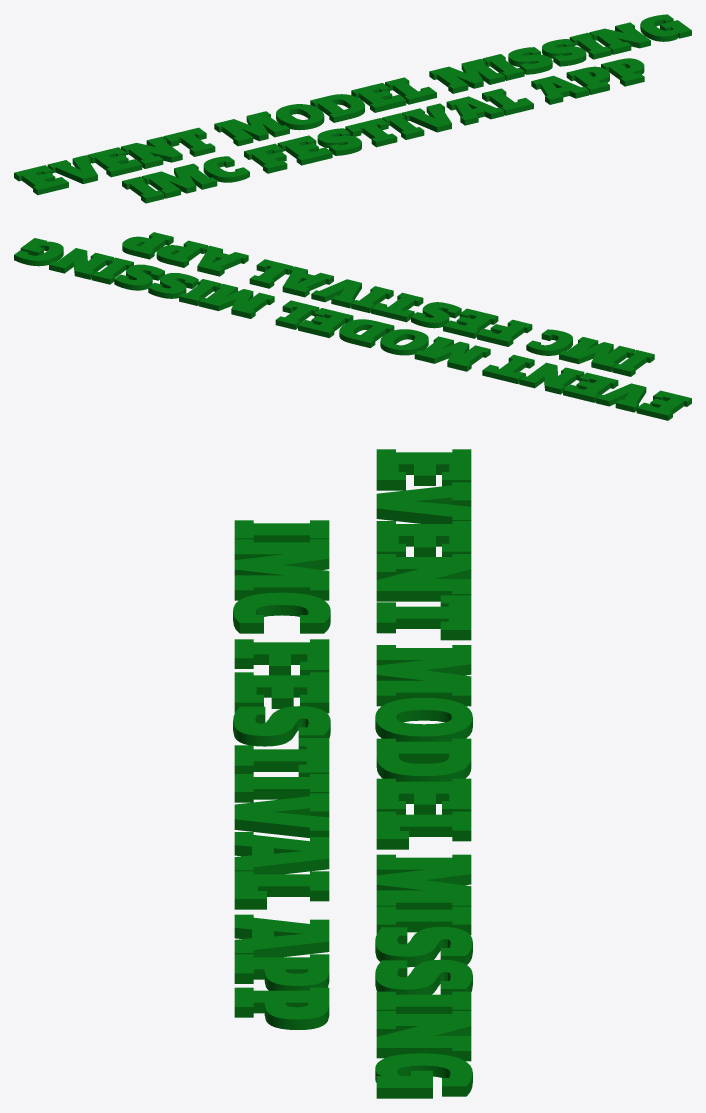
File: eventSiteModelDefault.dae
The picture shows the model from 3 angles, top to bottom: view 1: azimuth 30°, elevation 25°; view 2: azimuth 150°, elevation 25°; view 3: azimuth 270°, elevation 25°; orthographic projection. The views are drawn at different scales.
Parts seen in each view (by area): view 1: instance_0 (×31); view 2: instance_0 (×31); view 3: instance_0 (×31).
Part boxes in pixels (box(x1,y1,x2,y2)): instance_0 (×31): box(14, 14, 691, 203); instance_0 (×31): box(14, 232, 691, 420); instance_0 (×31): box(233, 449, 472, 1098).
Size of the model in its own units: 130 by 20.6 by 1.
1 material, 1 textured.
